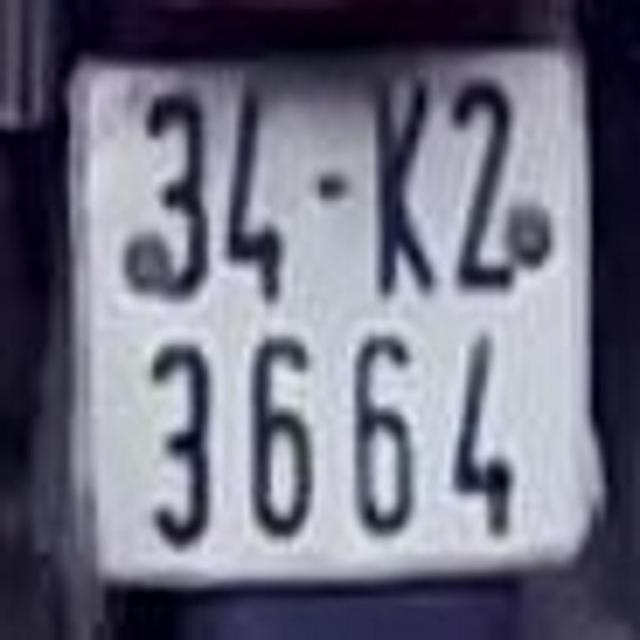2: (450, 81, 520, 298)
3: (149, 348, 218, 546), (139, 97, 208, 289)
4: (444, 324, 512, 528), (222, 93, 288, 300)
6: (245, 332, 315, 540), (352, 332, 419, 540)
K: (368, 80, 443, 295)
